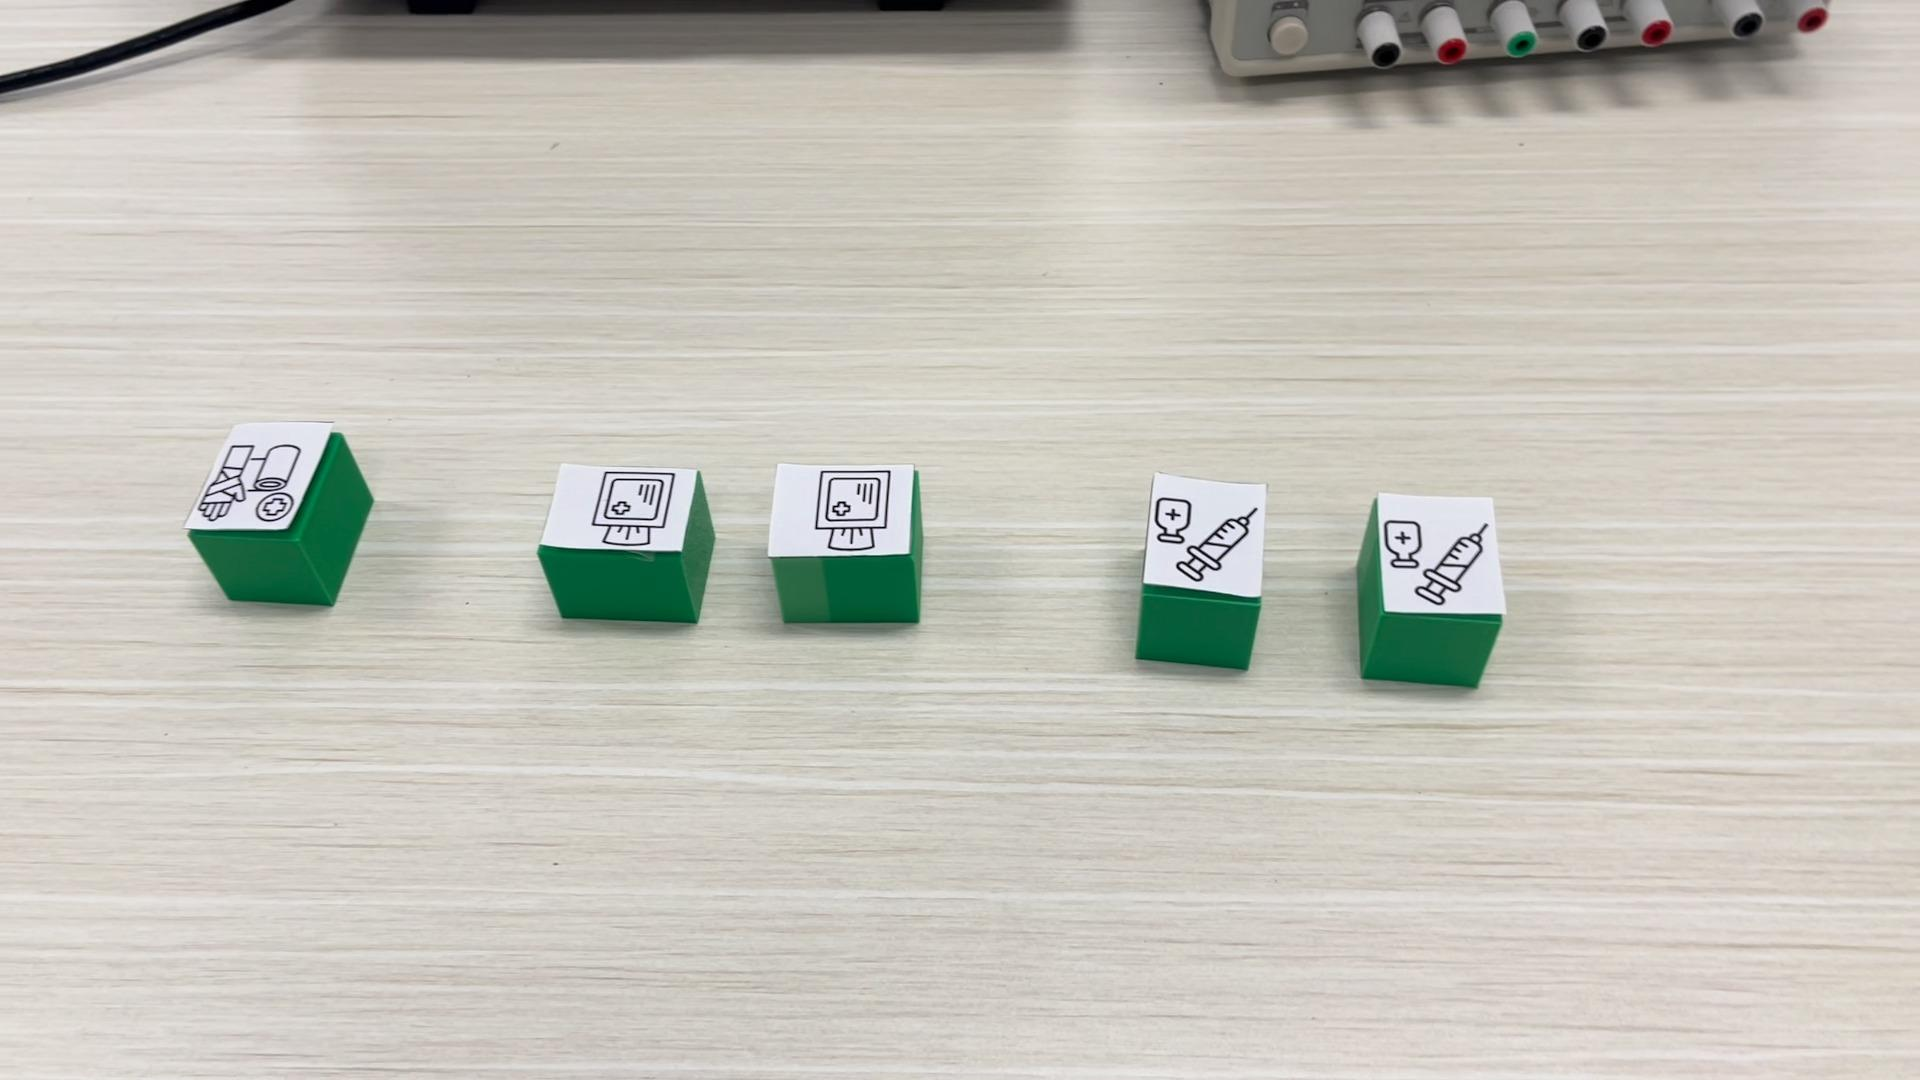Bandages: (185, 418, 373, 607)
Gauze: (537, 462, 716, 624), (765, 462, 924, 624)
antiseptic cream: (1352, 487, 1506, 686), (1134, 469, 1267, 670)
